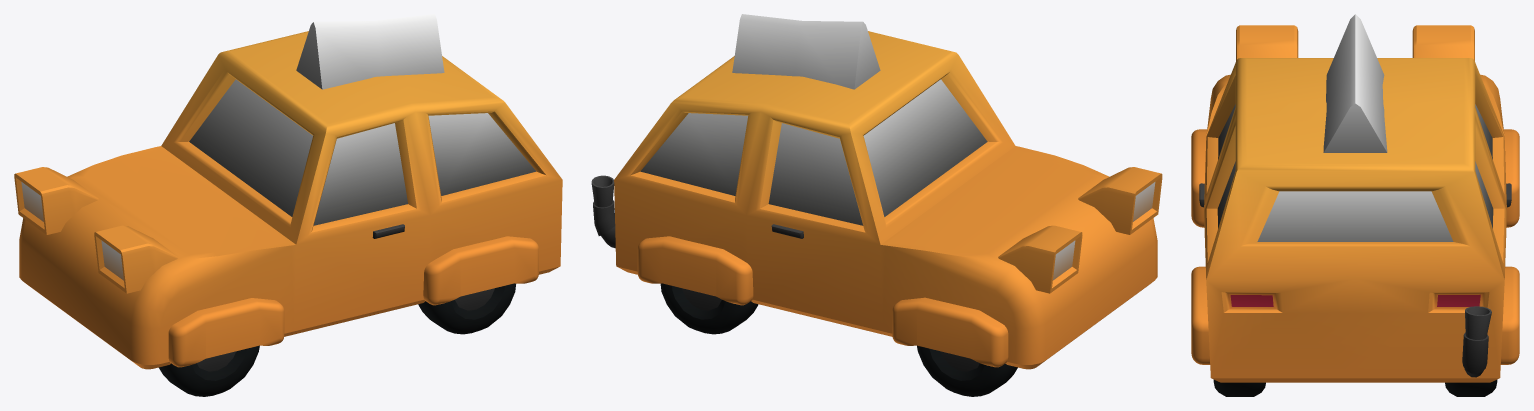
File: Taxi_Vehicle.glb
The picture shows the model from 3 angles, left to right: view 1: azimuth 30°, elevation 25°; view 2: azimuth 150°, elevation 25°; view 3: azimuth 270°, elevation 25°; orthographic projection. The views are drawn at different scales.
Visible parts, largest first — view 1: Car, FrontLeftWheel, BackWheels; view 2: Car, FrontRightWheel, BackWheels; view 3: Car, BackWheels.
Part boxes in pixels (x1,y1,x2,y2): Car: (14,14,562,369); FrontLeftWheel: (159,345,259,396); BackWheels: (418,283,515,334); Car: (591,14,1162,369); FrontRightWheel: (917,345,1017,396); BackWheels: (660,283,758,334); Car: (1191,14,1519,382); BackWheels: (1213,380,1497,396).
Size of the model in its own units: 1.29 by 0.7944 by 0.7225.
Materials: 1 (1 with a texture image).
